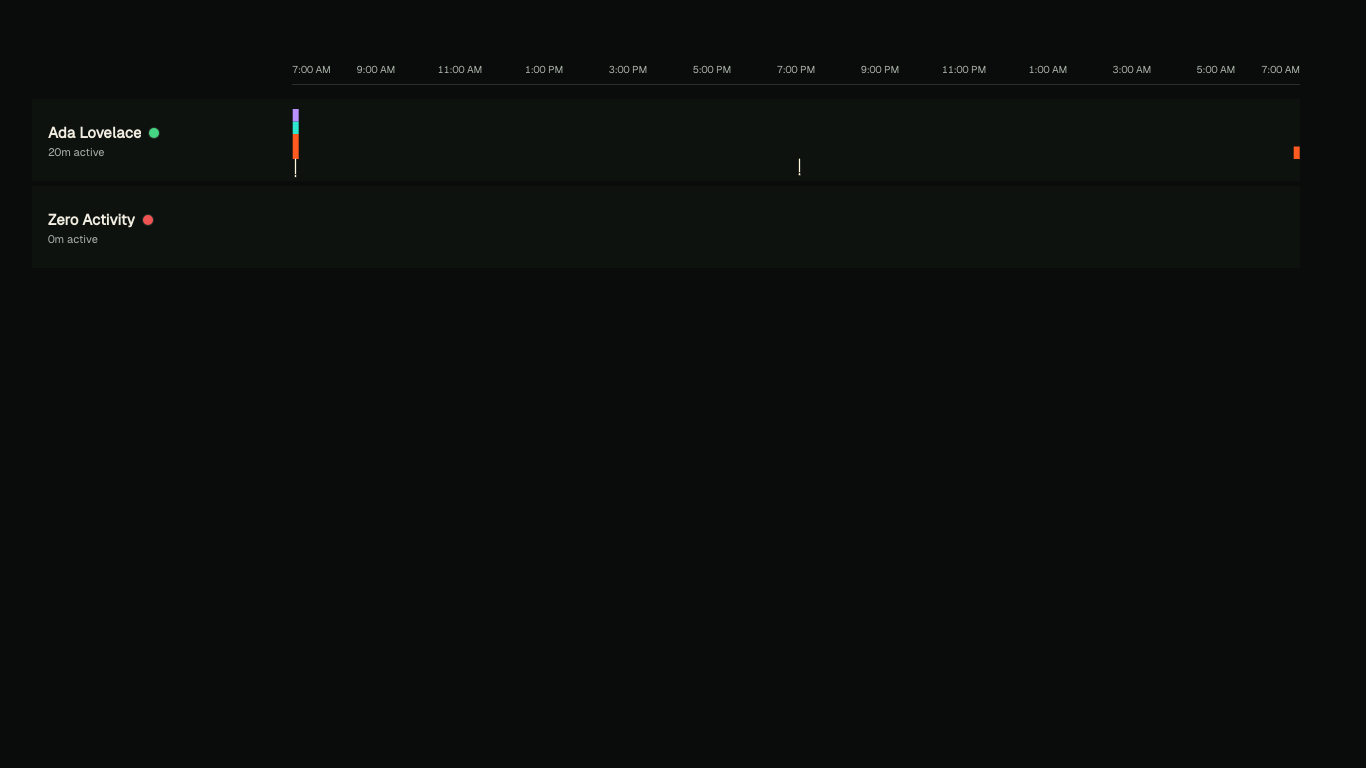
Test: FlameGraph › opens observed interval details for the exact clicked bucket
The image size is (1366, 768).
Click the 1st element with class "recharts-wrapper" at x=796, y=140, box x1=292 y1=99 x2=1300 y2=181
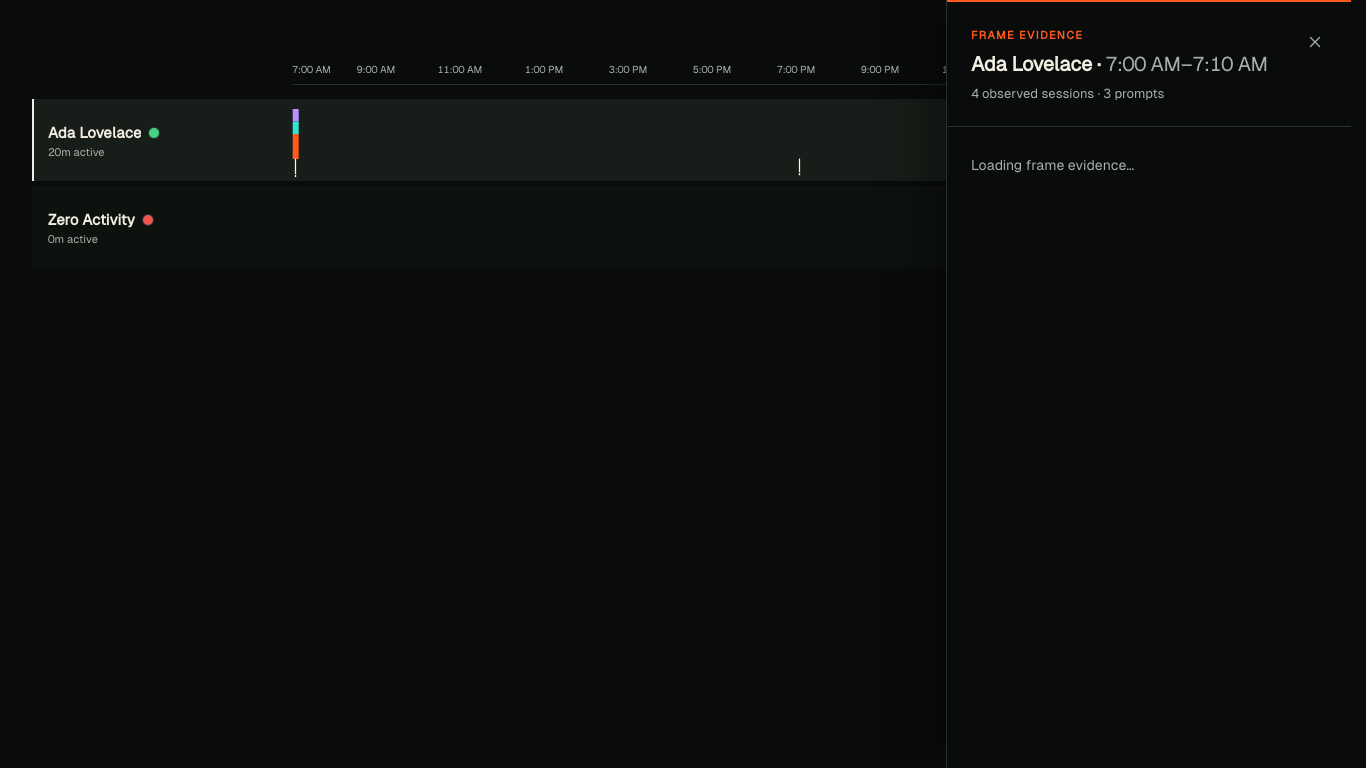
Now the element "Ada Lovelace" shows "4 observed sessions", box x1=971 y1=86 x2=1094 y2=101
Now the element "Ada Lovelace" shows "3 prompts", box x1=1103 y1=86 x2=1164 y2=101
Now the element "Ada Lovelace" shows "Loading frame evidence", box x1=971 y1=157 x2=1134 y2=173
